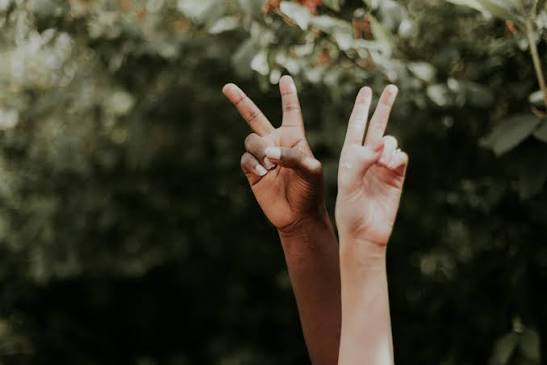peace_sign: (214, 71, 333, 226), (331, 74, 426, 239)
